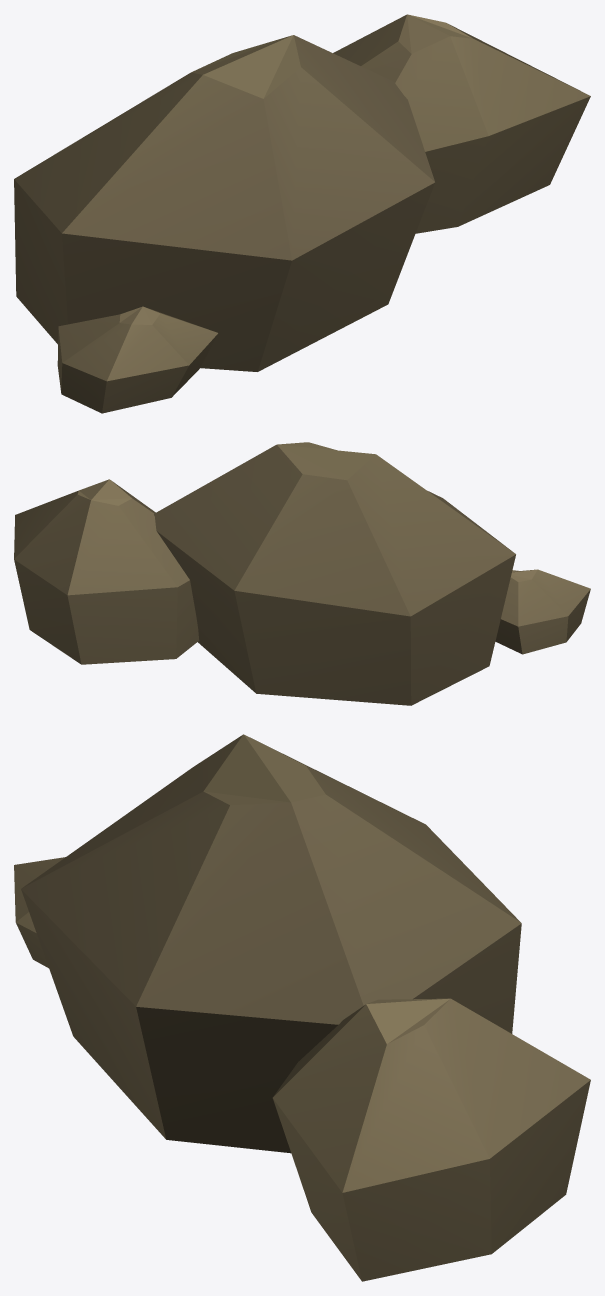
The model's file is rock.glb.
3 views of the same model, one above another, from view 1: azimuth 30°, elevation 25°; view 2: azimuth 150°, elevation 25°; view 3: azimuth 270°, elevation 25° (orthographic). The views are drawn at different scales.
Parts seen in each view (by area): view 1: rock; view 2: rock; view 3: rock.
Boxes of the visible parts, box(x1,y1,x2,y2) form: rock: box(14, 14, 590, 413); rock: box(14, 442, 590, 705); rock: box(14, 734, 590, 1281).
Size of the model in its own units: 32.96 by 12.41 by 20.94.
